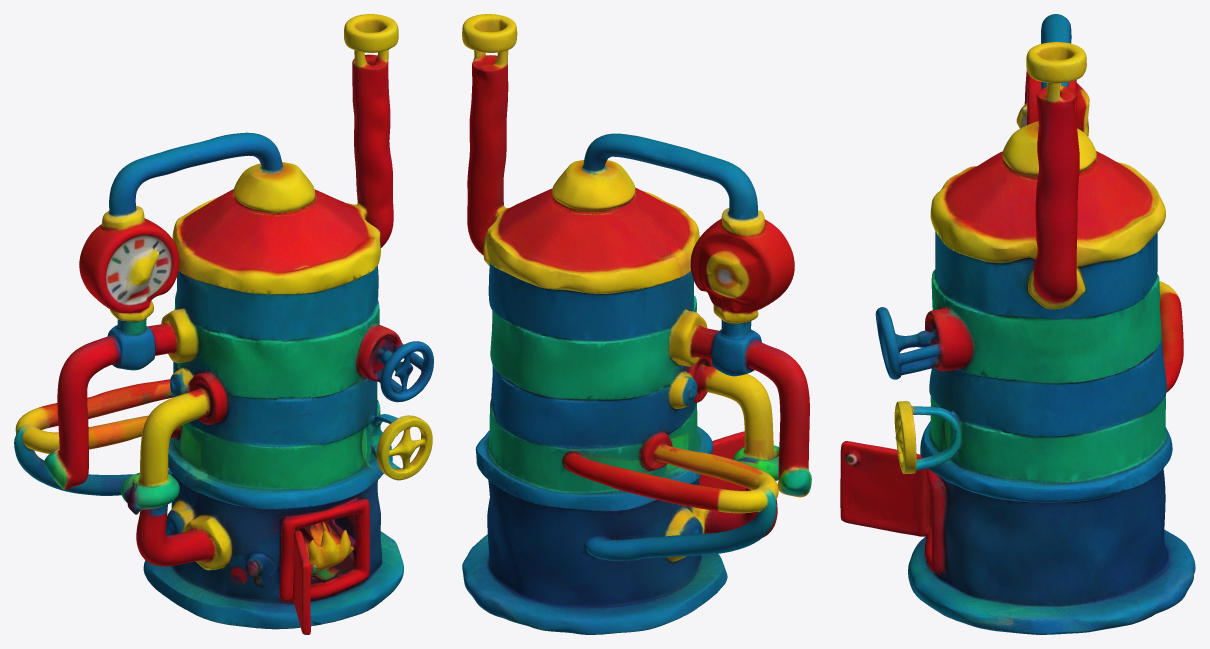
Rendered from boiler.glb.
3 renders of one model, left to right at view 1: azimuth 30°, elevation 25°; view 2: azimuth 150°, elevation 25°; view 3: azimuth 270°, elevation 25°, orthographic. The views are drawn at different scales.
Size of the model in its own units: 1.21 by 1.78 by 0.9814.
Materials: 1 (1 with a texture image).
